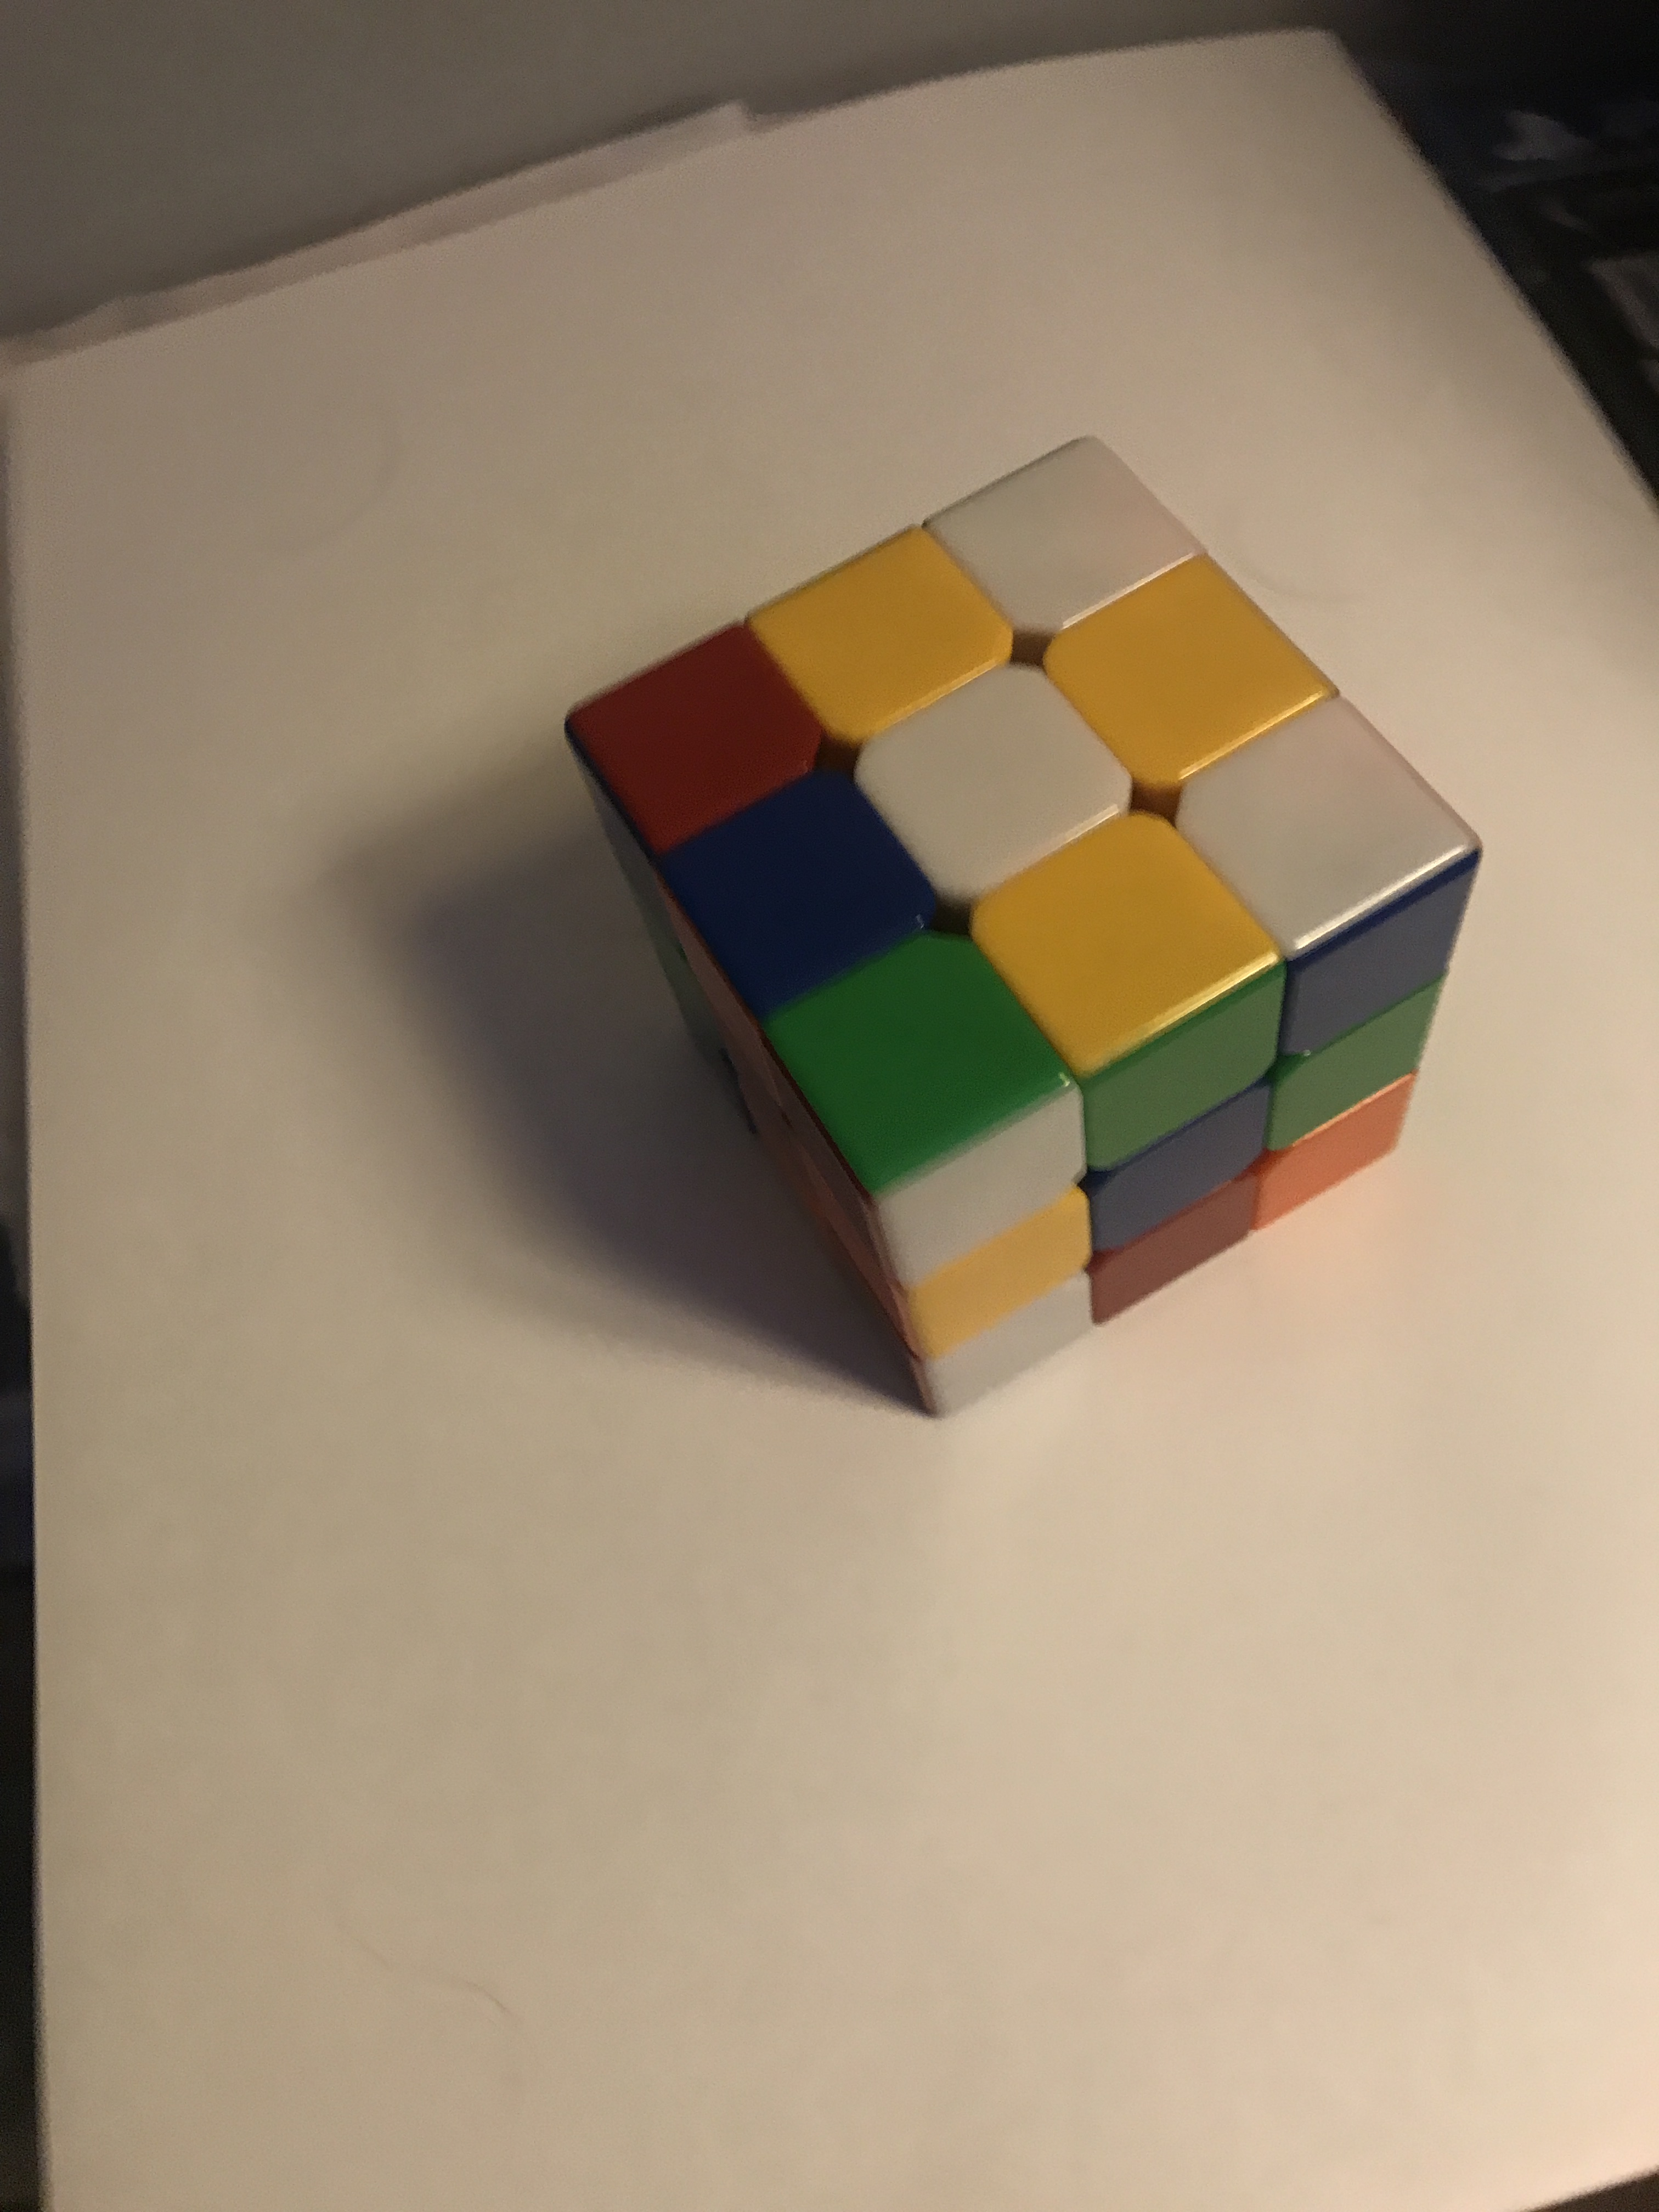rubiks: (559, 434, 1497, 1428)
